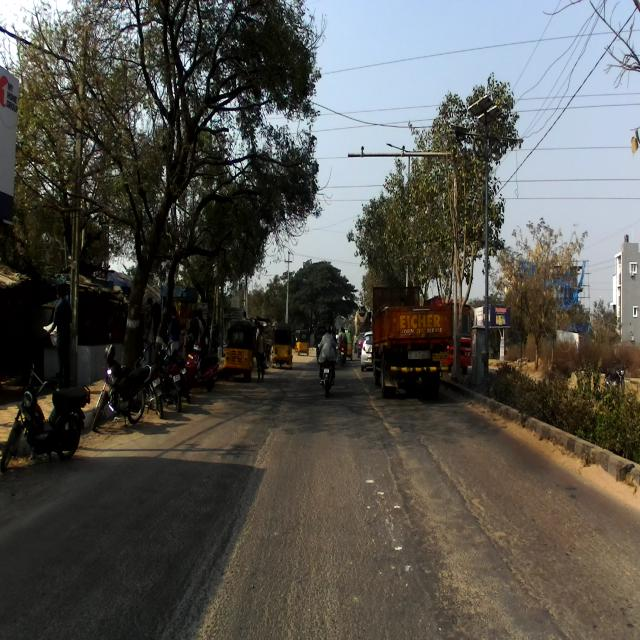motorcycle ahead at: (2, 346, 92, 468)
truck ahead at: (370, 275, 450, 405)
